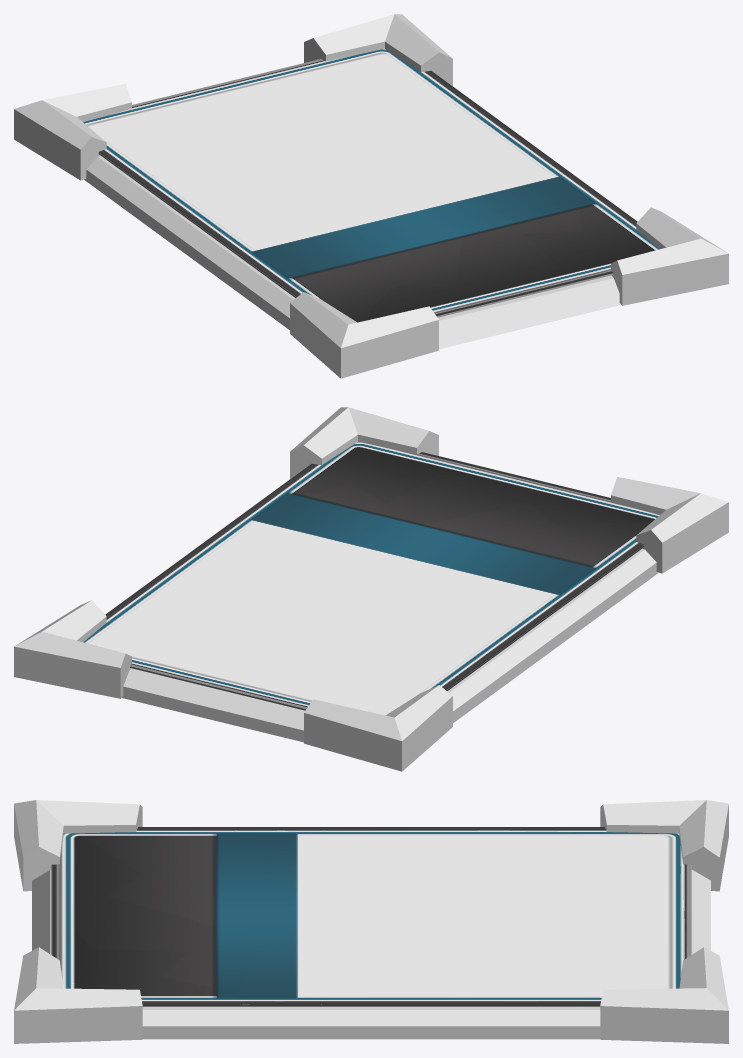
Rendered from Card_Holder.fbx.
3 views of the same model, one above another, from view 1: azimuth 30°, elevation 25°; view 2: azimuth 150°, elevation 25°; view 3: azimuth 270°, elevation 25° (orthographic). The views are drawn at different scales.
Visible parts, largest first — view 1: Card_Proxy, CardHolder_Base, CardHolder_Corners_03, CardHolder_Corners_02, CardHolder_Corners_01, CardHolder_Corners_04; view 2: Card_Proxy, CardHolder_Base, CardHolder_Corners_01, CardHolder_Corners_04, CardHolder_Corners_03, CardHolder_Corners_02; view 3: Card_Proxy, CardHolder_Base, CardHolder_Corners_02, CardHolder_Corners_04, CardHolder_Corners_03, CardHolder_Corners_01.
Part boxes in pixels (box(x1,y1,x2,y2)): Card_Proxy: box(83, 49, 659, 322); CardHolder_Base: box(84, 82, 633, 349); CardHolder_Corners_03: box(290, 292, 438, 378); CardHolder_Corners_02: box(611, 207, 728, 305); CardHolder_Corners_01: box(14, 84, 131, 180); CardHolder_Corners_04: box(304, 14, 452, 85); Card_Proxy: box(83, 442, 659, 715); CardHolder_Base: box(105, 476, 658, 742); CardHolder_Corners_01: box(304, 685, 452, 771); CardHolder_Corners_04: box(14, 600, 131, 698); CardHolder_Corners_03: box(611, 477, 728, 573); CardHolder_Corners_02: box(290, 407, 438, 478); Card_Proxy: box(51, 827, 691, 1006); CardHolder_Base: box(32, 870, 710, 1039); CardHolder_Corners_02: box(14, 947, 142, 1043); CardHolder_Corners_04: box(600, 947, 728, 1043); CardHolder_Corners_03: box(14, 800, 142, 891); CardHolder_Corners_01: box(600, 800, 728, 891).
Bounding box in the file's own units: 0.158 × 0.0175 × 0.2305.
